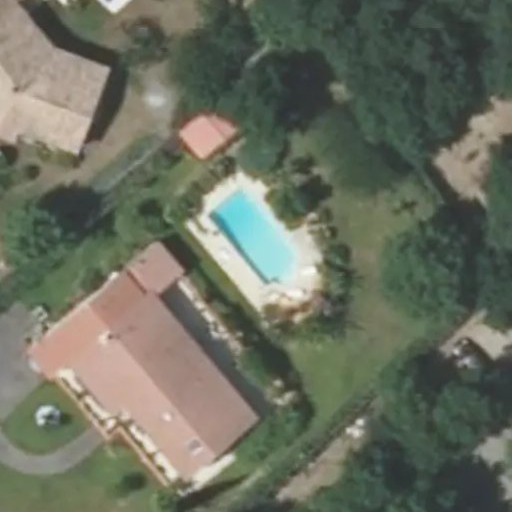pool: (208, 220, 312, 274)
